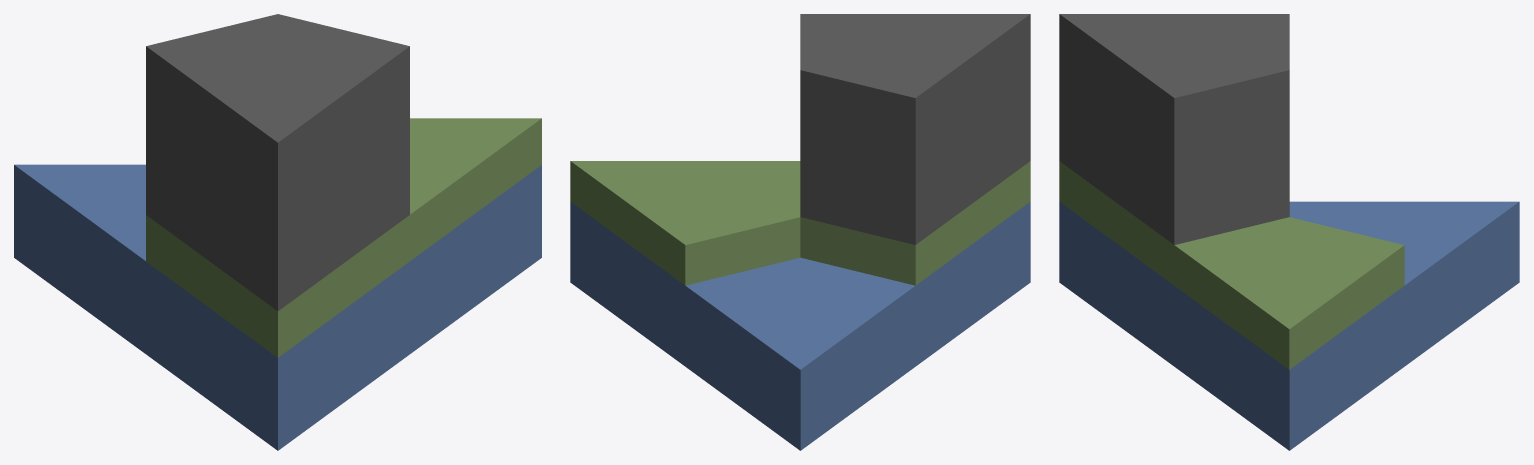
File: tri_5.glb
3 renders of one model, left to right at view 1: azimuth 30°, elevation 25°; view 2: azimuth 150°, elevation 25°; view 3: azimuth 270°, elevation 25°, orthographic. The views are drawn at different scales.
Visible parts, largest first — view 1: tri_5; view 2: tri_5; view 3: tri_5.
Part boxes in pixels (bbox=[...]): tri_5: bbox=[14, 14, 541, 450]; tri_5: bbox=[570, 14, 1030, 450]; tri_5: bbox=[1059, 14, 1519, 450].
Bounding box in the file's own units: 0.7423 × 0.5521 × 0.8571.
